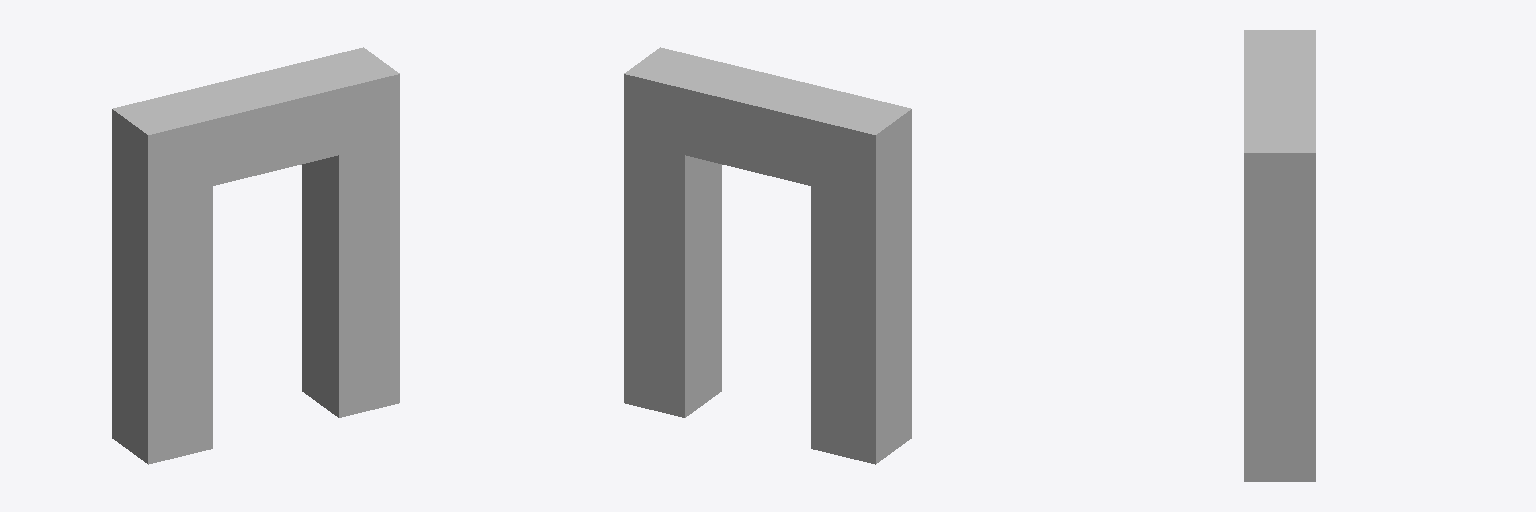
File: Muur met Deurgat.obj
3 views of the same model, side by side, from view 1: azimuth 30°, elevation 25°; view 2: azimuth 150°, elevation 25°; view 3: azimuth 270°, elevation 25° (orthographic).
Parts seen in each view (by area): view 1: Muur_met_deur; view 2: Muur_met_deur; view 3: Muur_met_deur.
Boxes of the visible parts, x1,y1,x2,y2 form: Muur_met_deur: [112, 47, 399, 464]; Muur_met_deur: [624, 47, 911, 464]; Muur_met_deur: [1244, 30, 1315, 481].
Size of the model in its own units: 78.74 by 98.43 by 19.68.